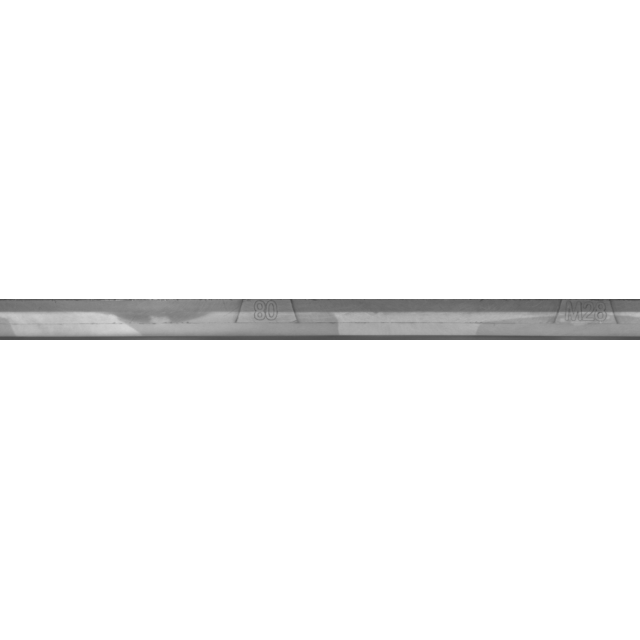mohao: (489, 270, 640, 370)
xuehao: (171, 270, 371, 370)
